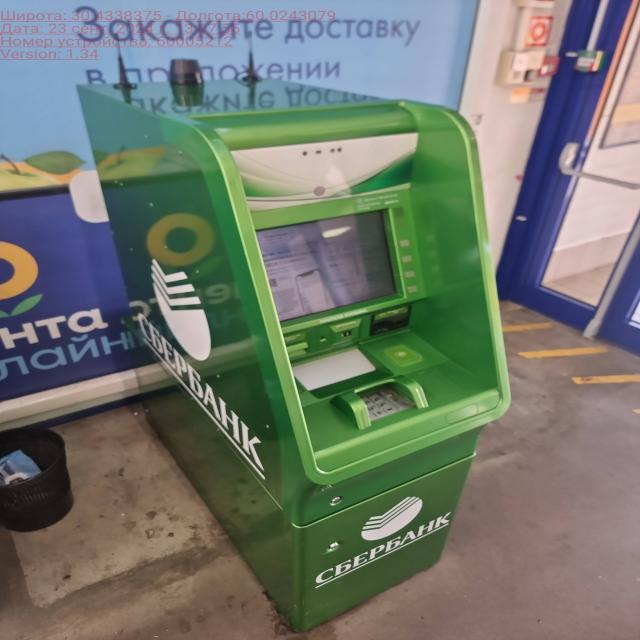bank: (81, 76, 511, 633)
